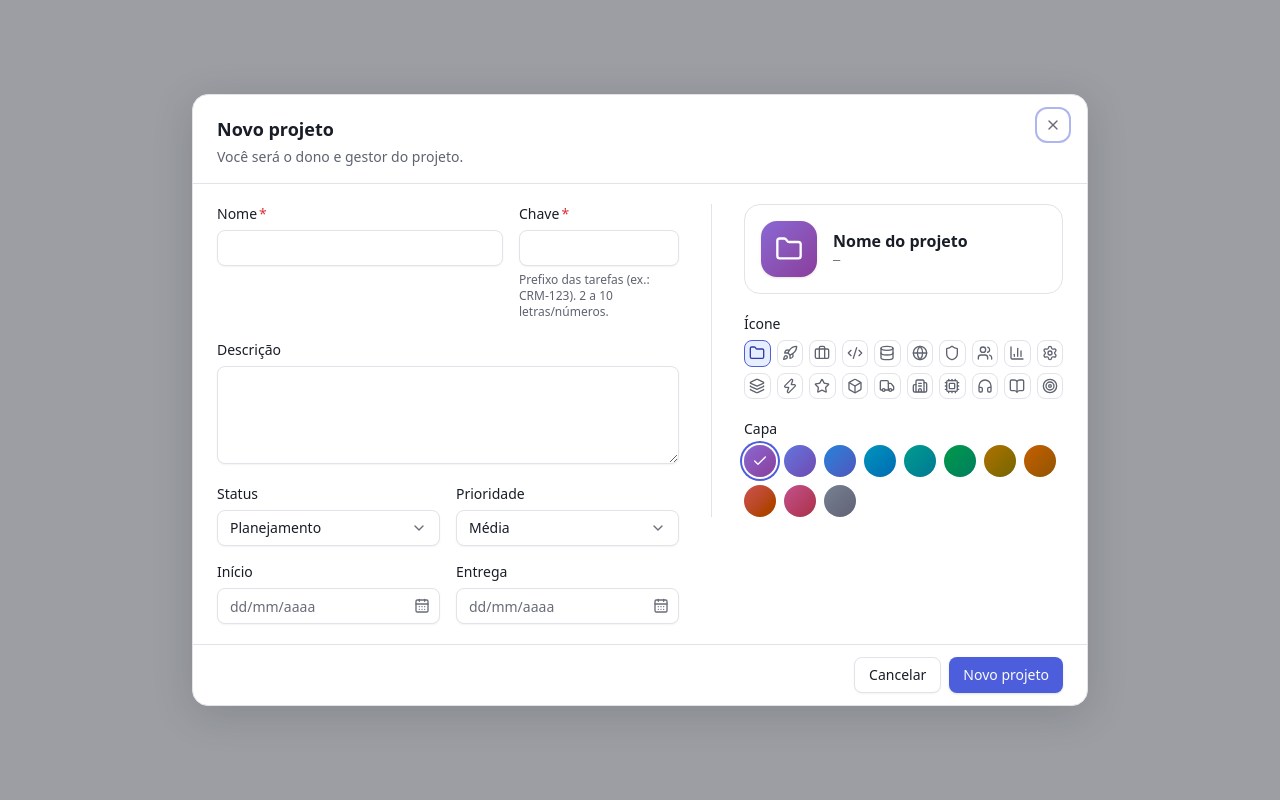
ProjectFormDialog › mostra no campo o erro de chave já usada
Type "CRM Corporativo" into the field labelled "Nome*" at coordinates (360, 248), box [217,230,503,266]
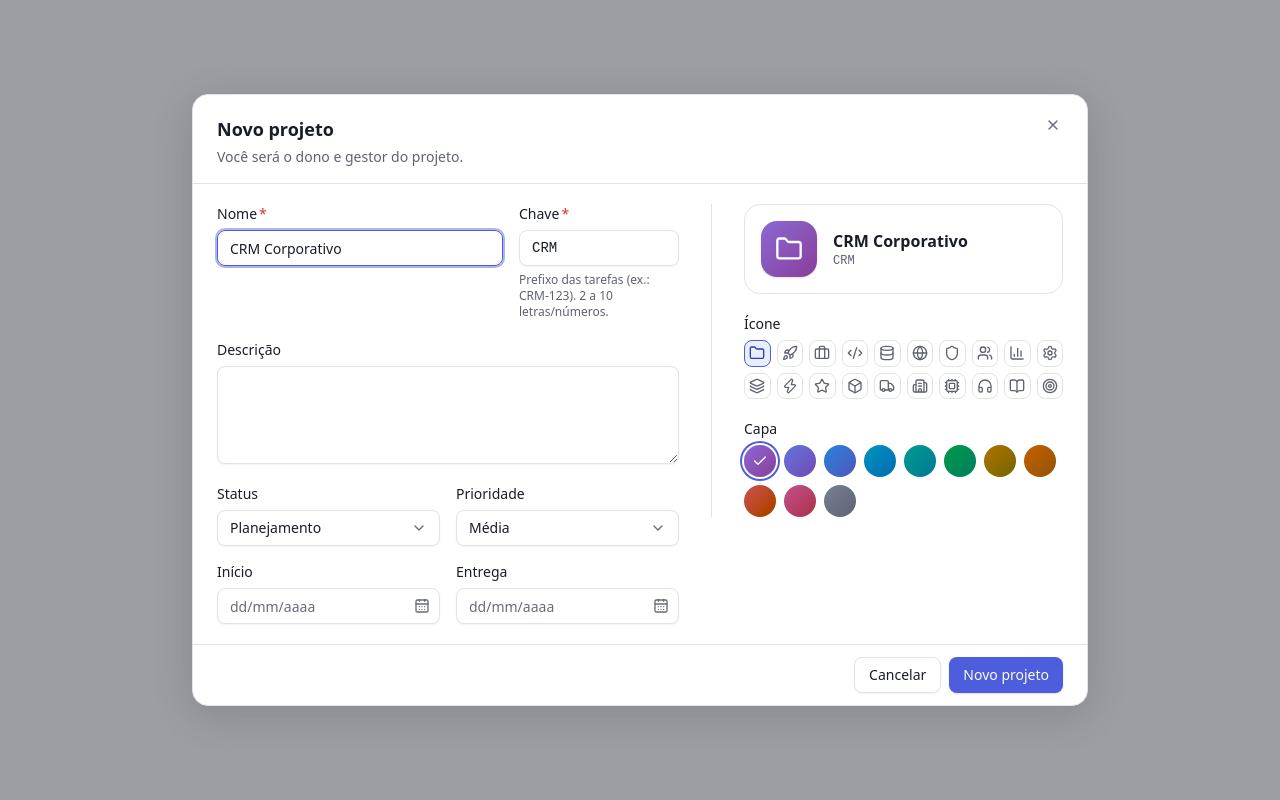
Click the button "Novo projeto" at coordinates (1006, 675), box [949,657,1063,693]
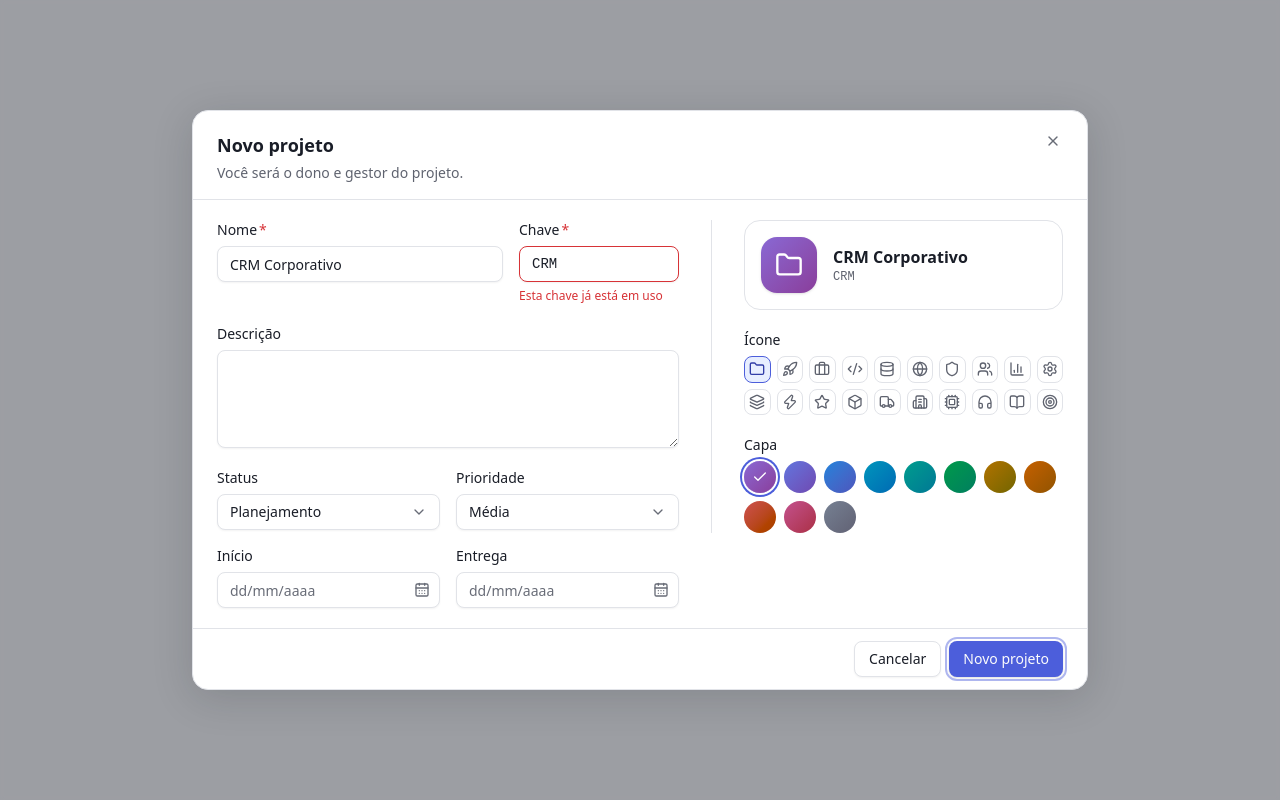
Expected: the text "Esta chave já está em uso" is shown, [519,288,679,304]
